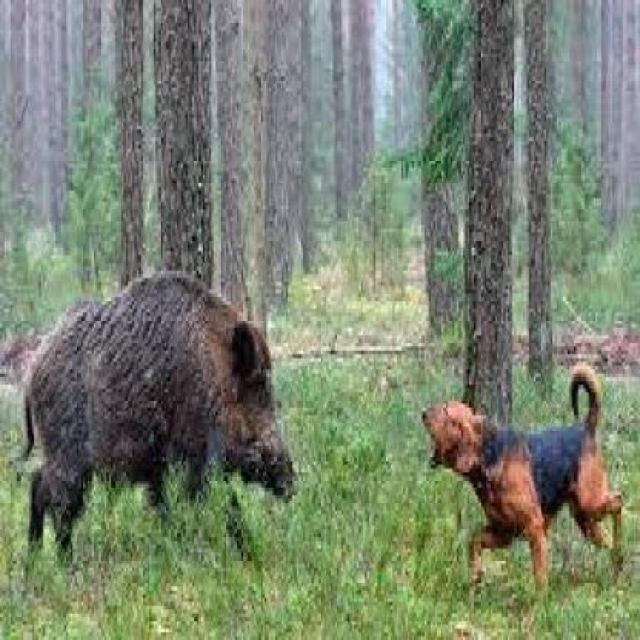wildboar: (18, 265, 299, 569)
